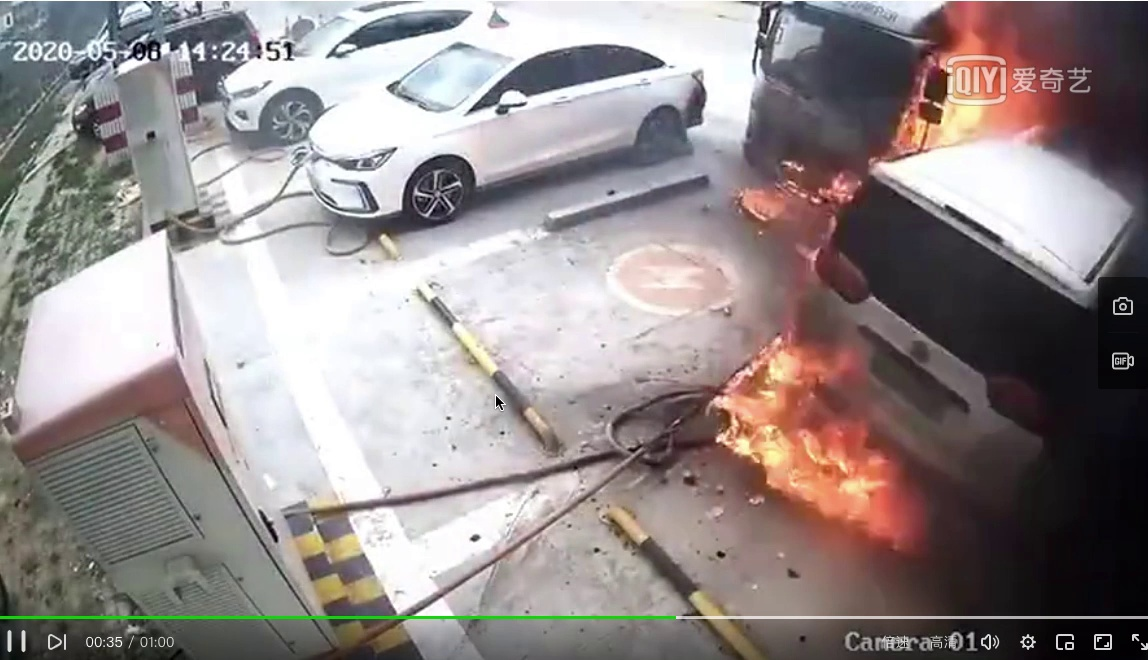fire: (724, 338, 926, 546), (911, 22, 1046, 145)
